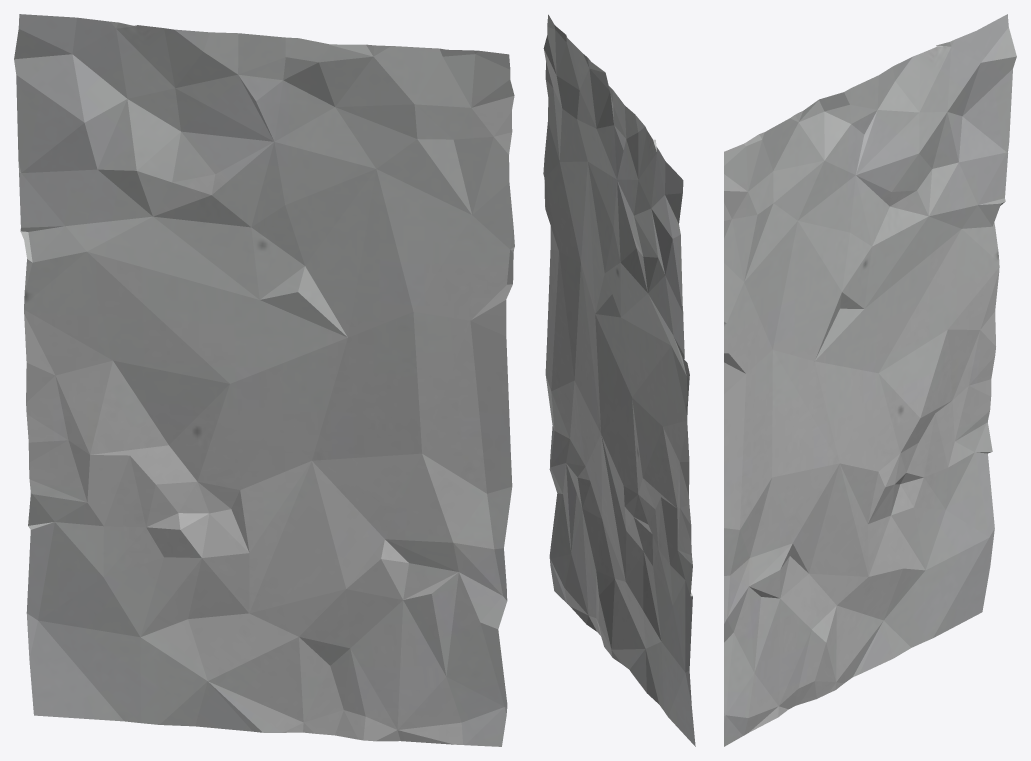
3 views of the same model, side by side, from view 1: azimuth 30°, elevation 25°; view 2: azimuth 150°, elevation 25°; view 3: azimuth 270°, elevation 25° (orthographic). The views are drawn at different scales.
Bounding box in the file's own units: 0.4209 × 0.8373 × 0.3715.
Materials: 2 (2 with a texture image).
